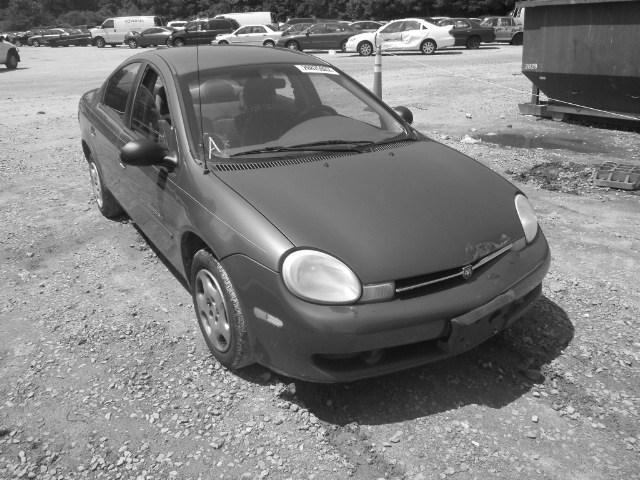car: (77, 42, 555, 385)
